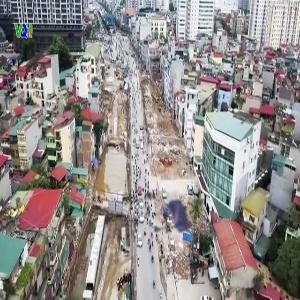drone: (119, 168, 222, 271)
